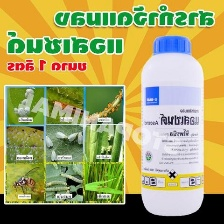insecticide: (137, 31, 207, 220)
